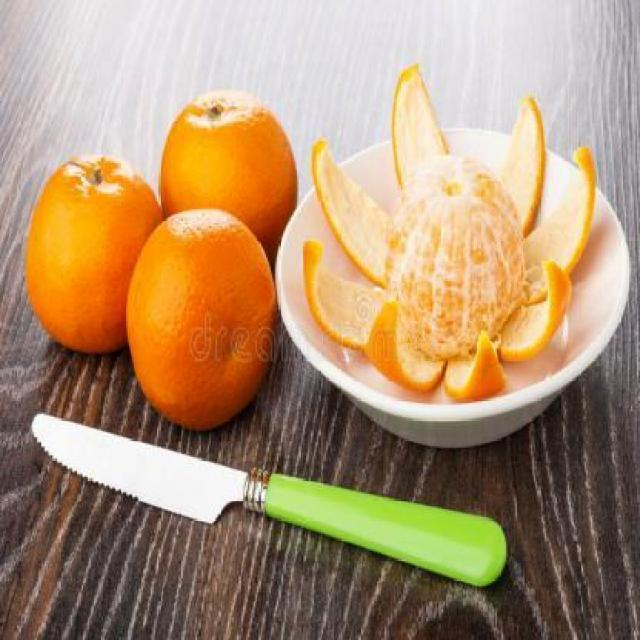Jeruk Sudah Matang: (130, 216, 276, 422), (26, 157, 166, 356), (158, 93, 298, 279)
